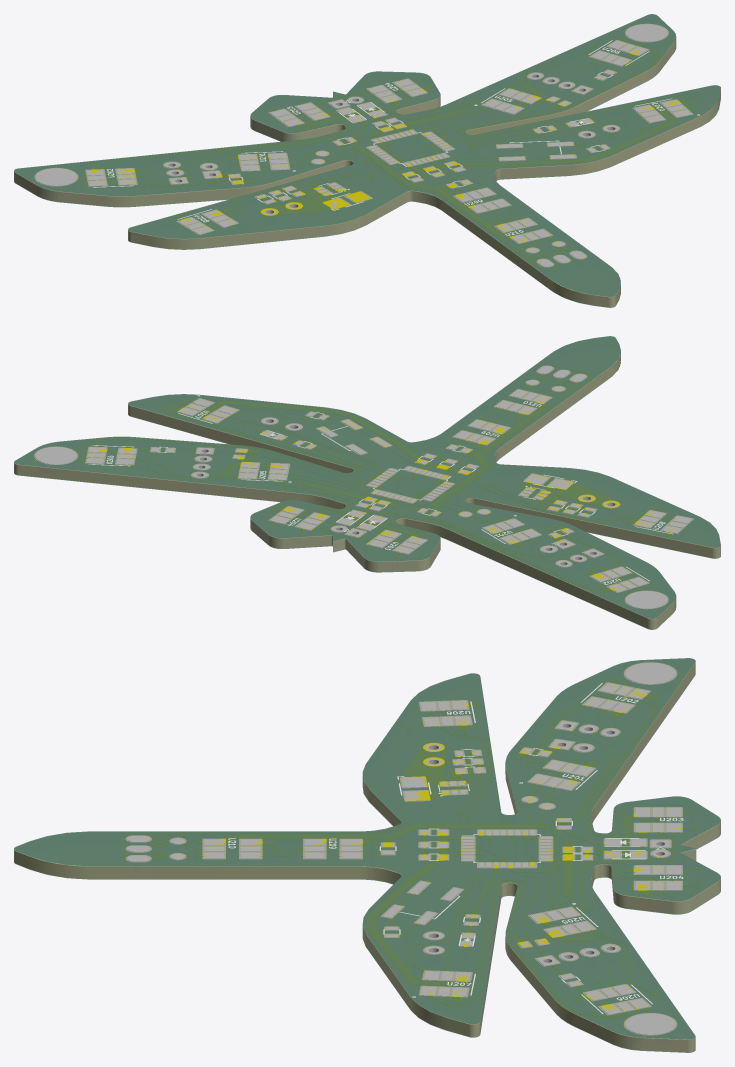
Rendered from sympetrum-v2.glb.
3 renders of one model, top to bottom at view 1: azimuth 30°, elevation 25°; view 2: azimuth 150°, elevation 25°; view 3: azimuth 270°, elevation 25°, orthographic. The views are drawn at different scales.
Visible parts, largest first — view 1: =>[0:1:1:9], =>[0:1:1:7], =>[0:1:1:2], =>[0:1:1:5]; view 2: =>[0:1:1:9], =>[0:1:1:7], =>[0:1:1:2], =>[0:1:1:5]; view 3: =>[0:1:1:7], =>[0:1:1:9], =>[0:1:1:2], =>[0:1:1:5].
Part boxes in pixels (x1=…): =>[0:1:1:9]: x1=14, y1=15, x2=720, y2=307; =>[0:1:1:7]: x1=14, y1=14, x2=720, y2=307; =>[0:1:1:2]: x1=35, y1=24, x2=711, y2=268; =>[0:1:1:5]: x1=92, y1=40, x2=699, y2=239; =>[0:1:1:9]: x1=14, y1=337, x2=720, y2=629; =>[0:1:1:7]: x1=14, y1=336, x2=720, y2=629; =>[0:1:1:2]: x1=35, y1=366, x2=692, y2=608; =>[0:1:1:5]: x1=88, y1=395, x2=672, y2=584; =>[0:1:1:7]: x1=14, y1=658, x2=720, y2=1052; =>[0:1:1:9]: x1=14, y1=659, x2=720, y2=1052; =>[0:1:1:2]: x1=122, y1=662, x2=700, y2=1035; =>[0:1:1:5]: x1=228, y1=683, x2=683, y2=1013.
Size of the model in its own units: 0.0988 by 0.00166 by 0.0774.
Materials: 4 (4 with a texture image).
